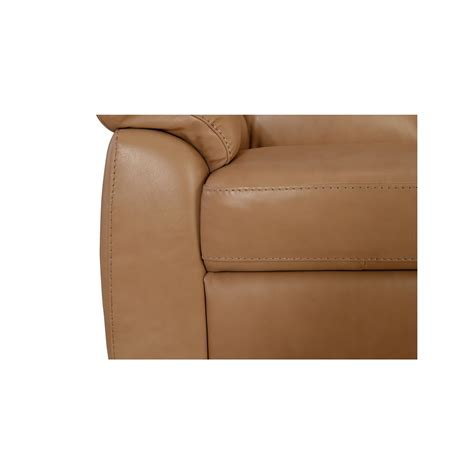cuero: (97, 113, 421, 362)
